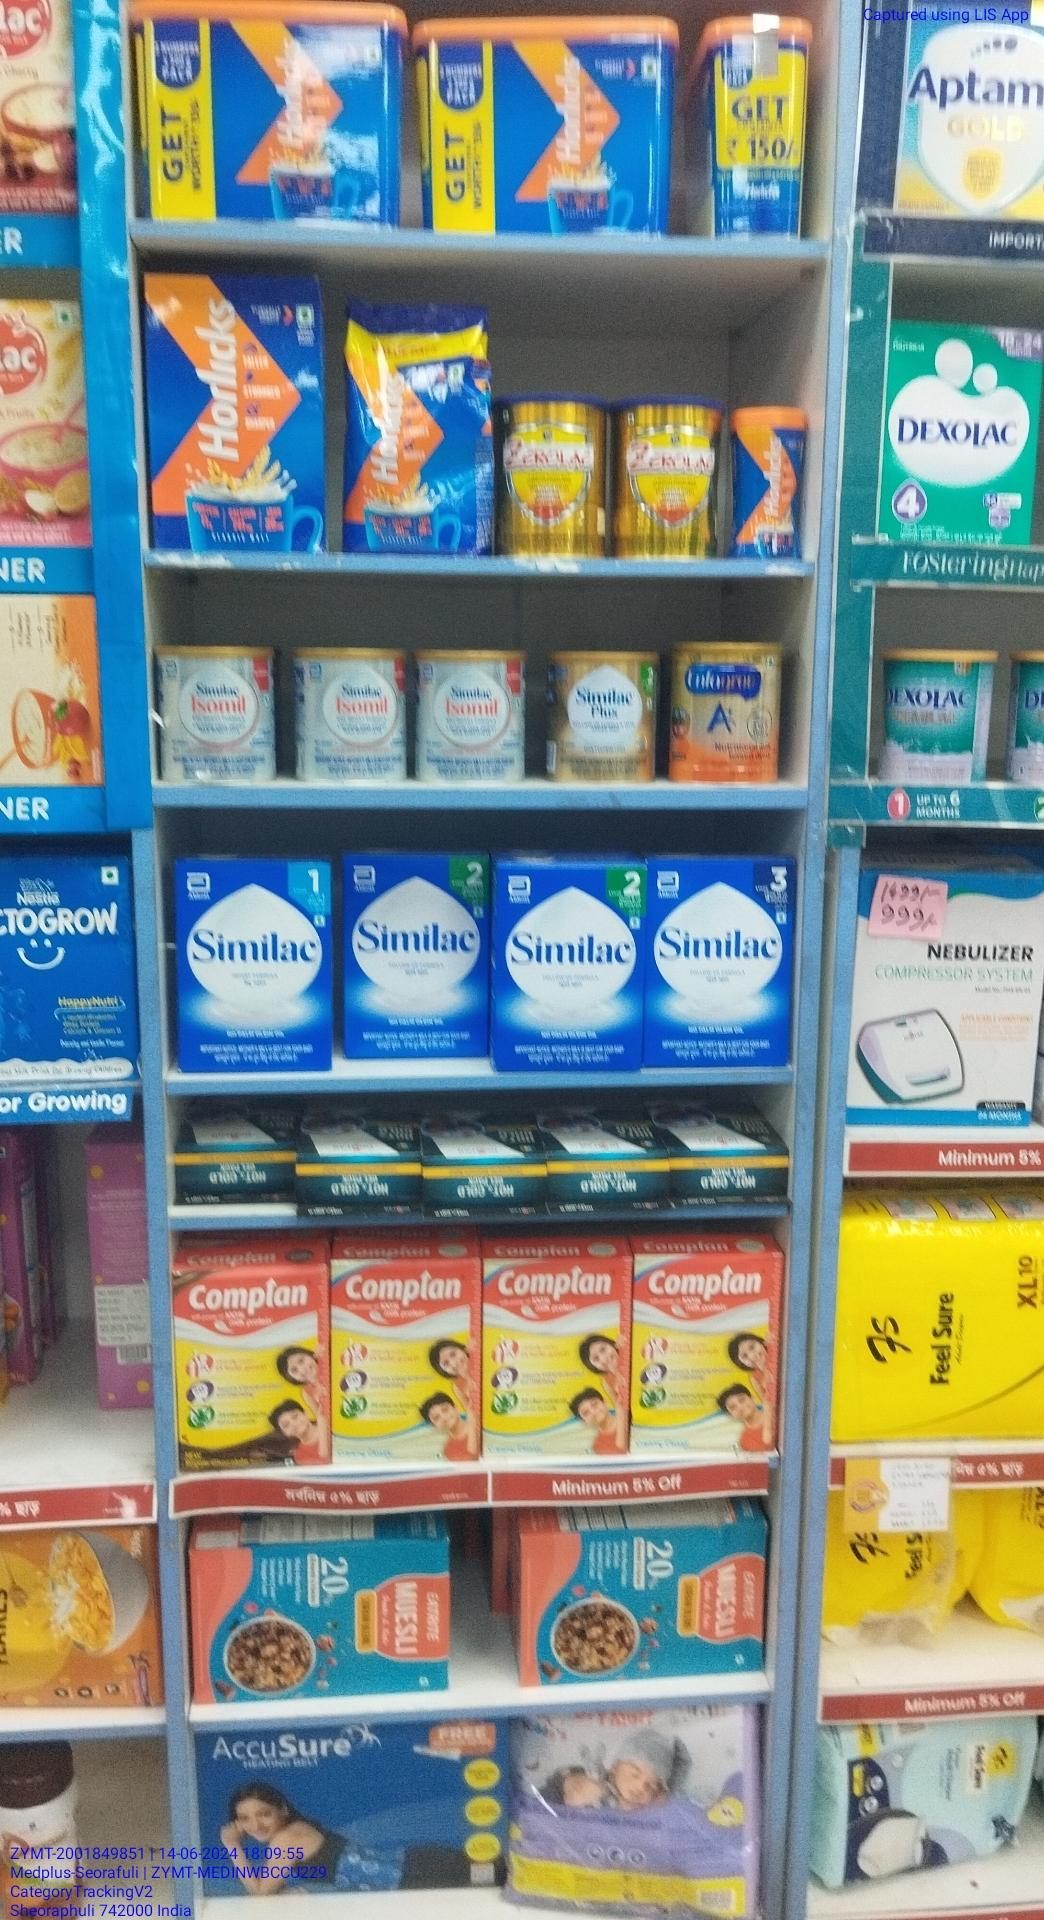COMPLAN_CHOCOLATE_500_GMS_PACK: (174, 1274, 329, 1471)
COMPLAN_CREAMY_CLASSIC_500_G_PACK: (338, 1261, 481, 1465), (487, 1257, 625, 1455), (634, 1257, 774, 1450)
HORLICK_CLASSIC_MALT_200_G_JAR: (726, 402, 802, 559)
HORLICK_MALT_1_KG_CONTAINER: (138, 0, 404, 231), (426, 10, 672, 229)
